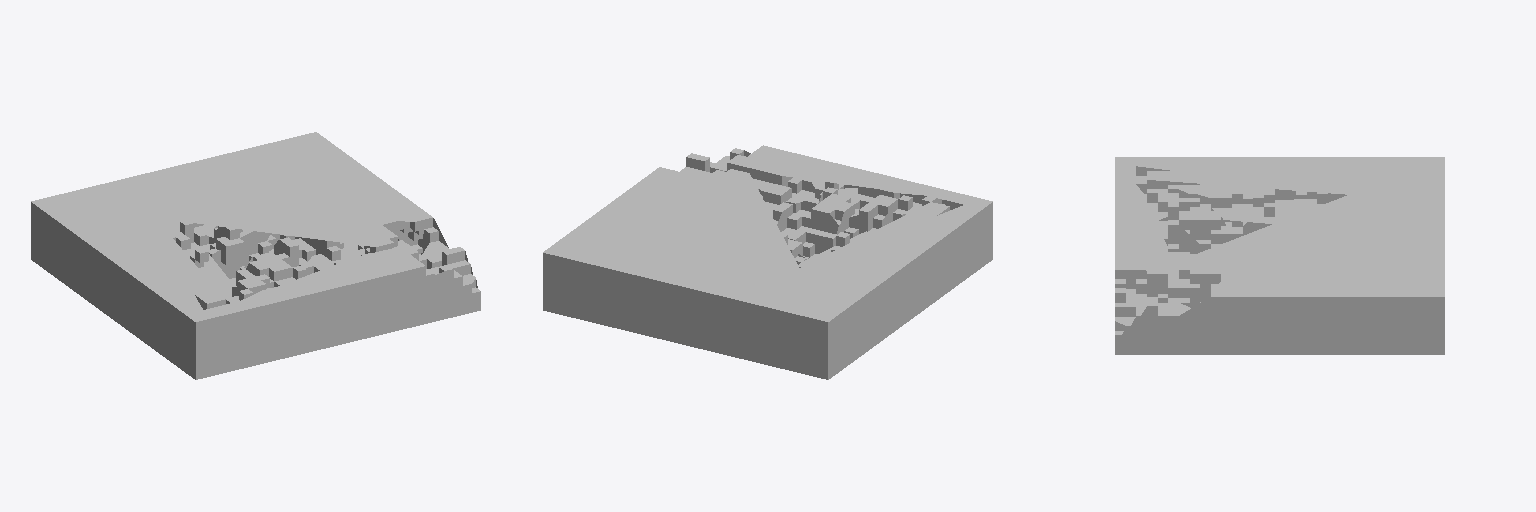
Rendered from Floor_Water_L_Broken.obj.
The picture shows the model from 3 angles: view 1: azimuth 30°, elevation 25°; view 2: azimuth 150°, elevation 25°; view 3: azimuth 270°, elevation 25°; orthographic projection.
Parts seen in each view (by area): view 1: Floor_Water_L_Broken_Floor_Water_L_Broken.001; view 2: Floor_Water_L_Broken_Floor_Water_L_Broken.001; view 3: Floor_Water_L_Broken_Floor_Water_L_Broken.001.
Boxes of the visible parts, x1=… form: Floor_Water_L_Broken_Floor_Water_L_Broken.001: x1=31, y1=132, x2=480, y2=379; Floor_Water_L_Broken_Floor_Water_L_Broken.001: x1=543, y1=145, x2=992, y2=379; Floor_Water_L_Broken_Floor_Water_L_Broken.001: x1=1115, y1=157, x2=1444, y2=354.
Size of the model in its own units: 3.1 by 0.6 by 3.1.